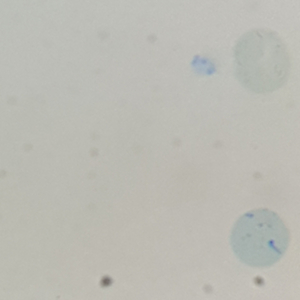erythrocyte: (232, 26, 290, 96)
punctate reticulocyte: (229, 208, 290, 268)
